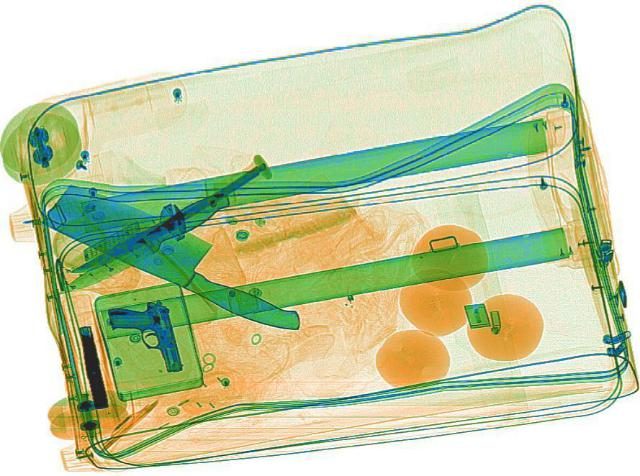Gun: (105, 297, 183, 376), (74, 324, 108, 407)
Knife: (31, 179, 332, 335), (66, 163, 272, 279), (44, 185, 238, 299)
